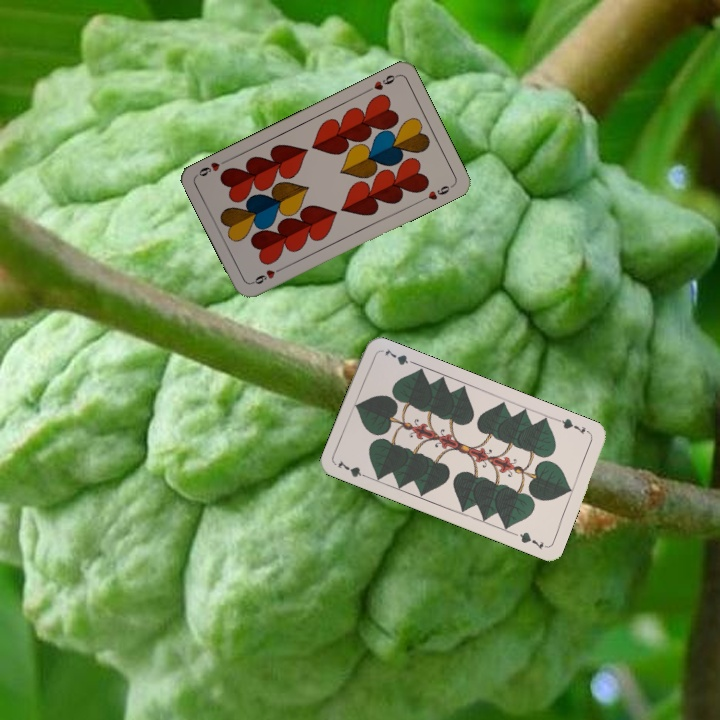G7: (334, 456, 372, 481), (554, 414, 592, 437)
H9: (248, 263, 286, 287), (363, 71, 401, 94)
